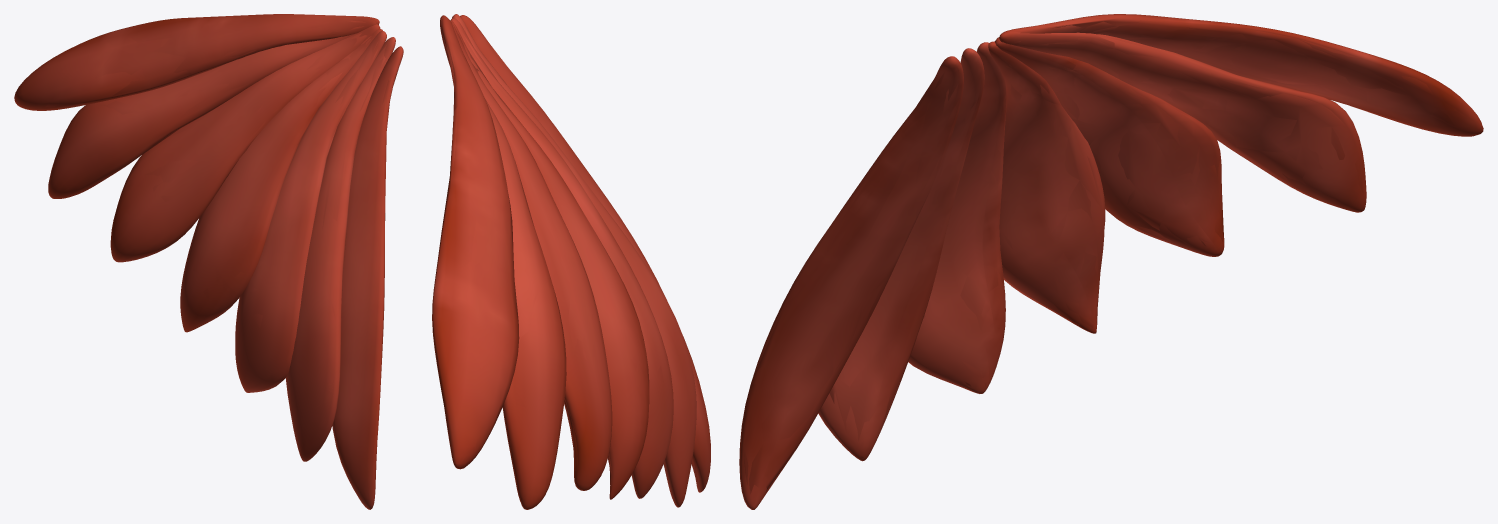
Rendered from R Serratus Ventralis thoracis.fbx.
The picture shows the model from 3 angles, left to right: view 1: azimuth 30°, elevation 25°; view 2: azimuth 150°, elevation 25°; view 3: azimuth 270°, elevation 25°; orthographic projection. The views are drawn at different scales.
Parts seen in each view (by area): view 1: R Serratus Ventralis thoracis, R Serratus Ventralis thoracis low; view 2: R Serratus Ventralis thoracis, R Serratus Ventralis thoracis low; view 3: R Serratus Ventralis thoracis, R Serratus Ventralis thoracis low.
Boxes of the visible parts, x1,y1,x2,y2 form: R Serratus Ventralis thoracis: (14,14,403,509); R Serratus Ventralis thoracis low: (14,14,397,506); R Serratus Ventralis thoracis: (432,14,710,509); R Serratus Ventralis thoracis low: (444,24,698,508); R Serratus Ventralis thoracis: (739,14,1483,509); R Serratus Ventralis thoracis low: (739,15,1479,502).
Size of the model in its own units: 5.71 by 10.51 by 13.04.
